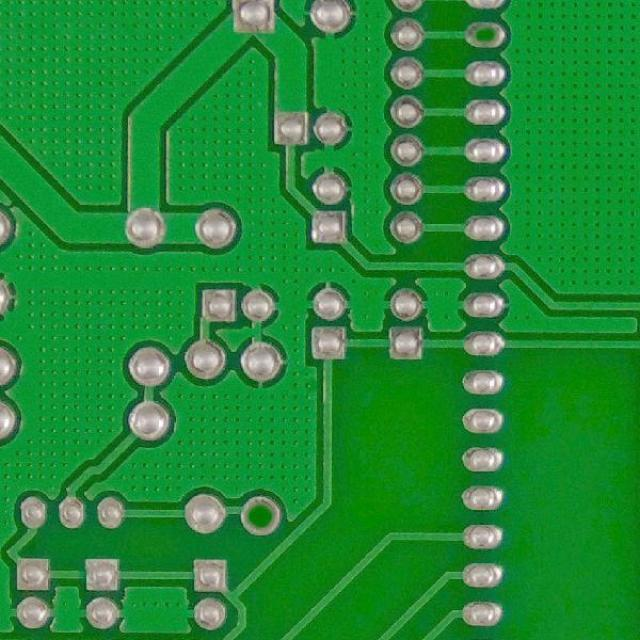Missing_Hole: (236, 491, 285, 538), (461, 18, 508, 50)
